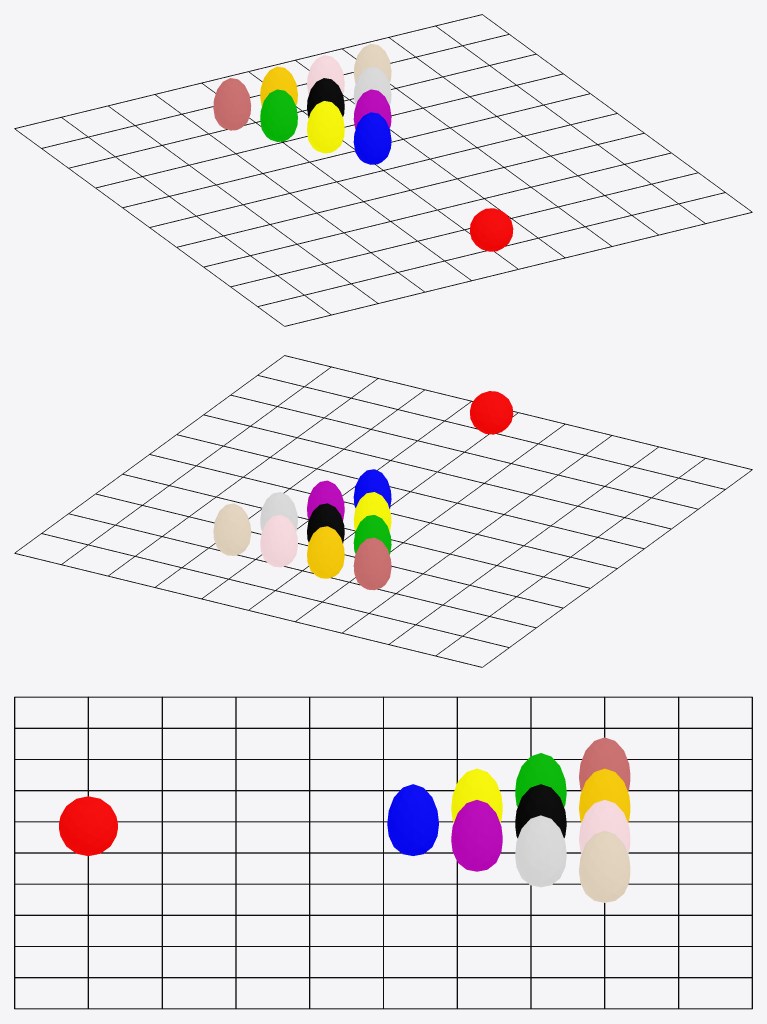
The model's file is egsStrike.glb.
3 views of the same model, one above another, from view 1: azimuth 30°, elevation 25°; view 2: azimuth 150°, elevation 25°; view 3: azimuth 270°, elevation 25° (orthographic). The views are drawn at different scales.
Size of the model in its own units: 10.02 by 1.01 by 10.02.
